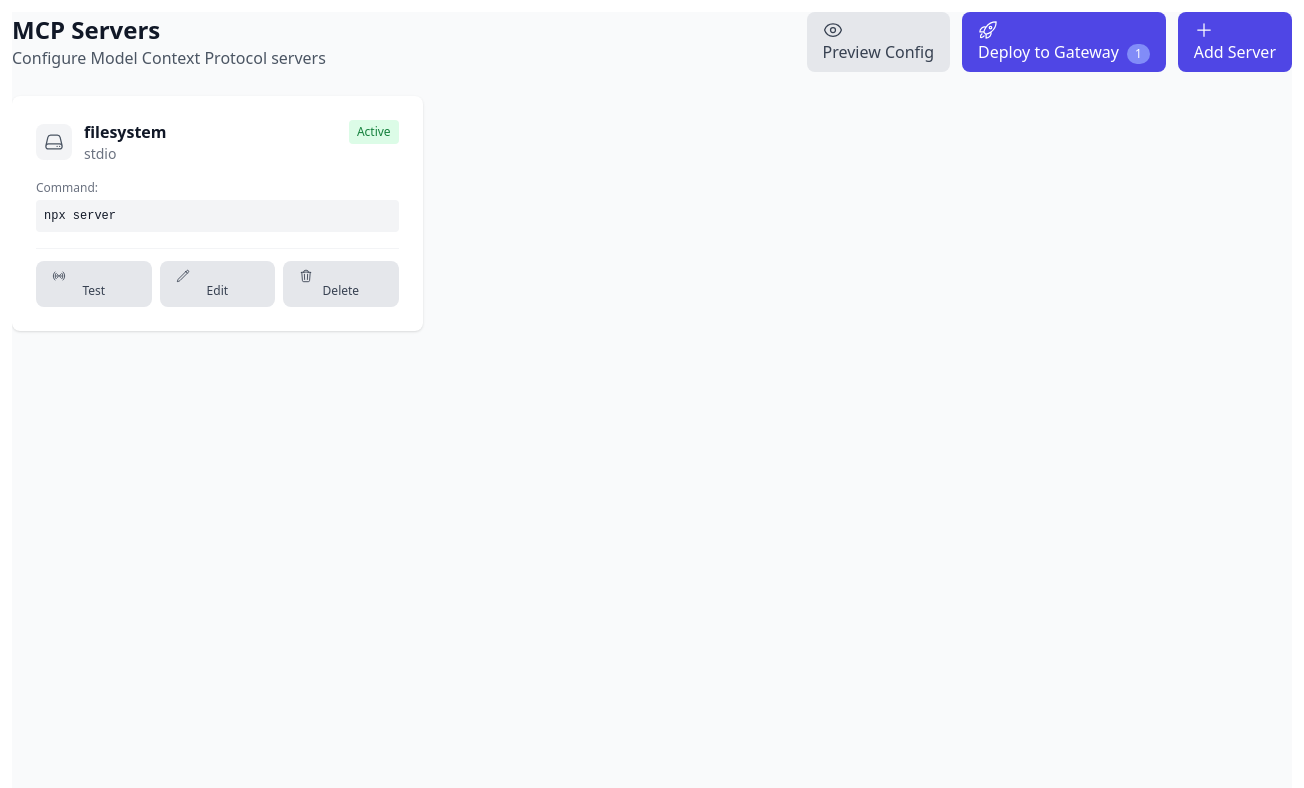
MCPServers › opens create form when Add Server is clicked
Click the button "Add Server" at (1235, 42), box top-left (1178, 12), bottom-right (1292, 72)
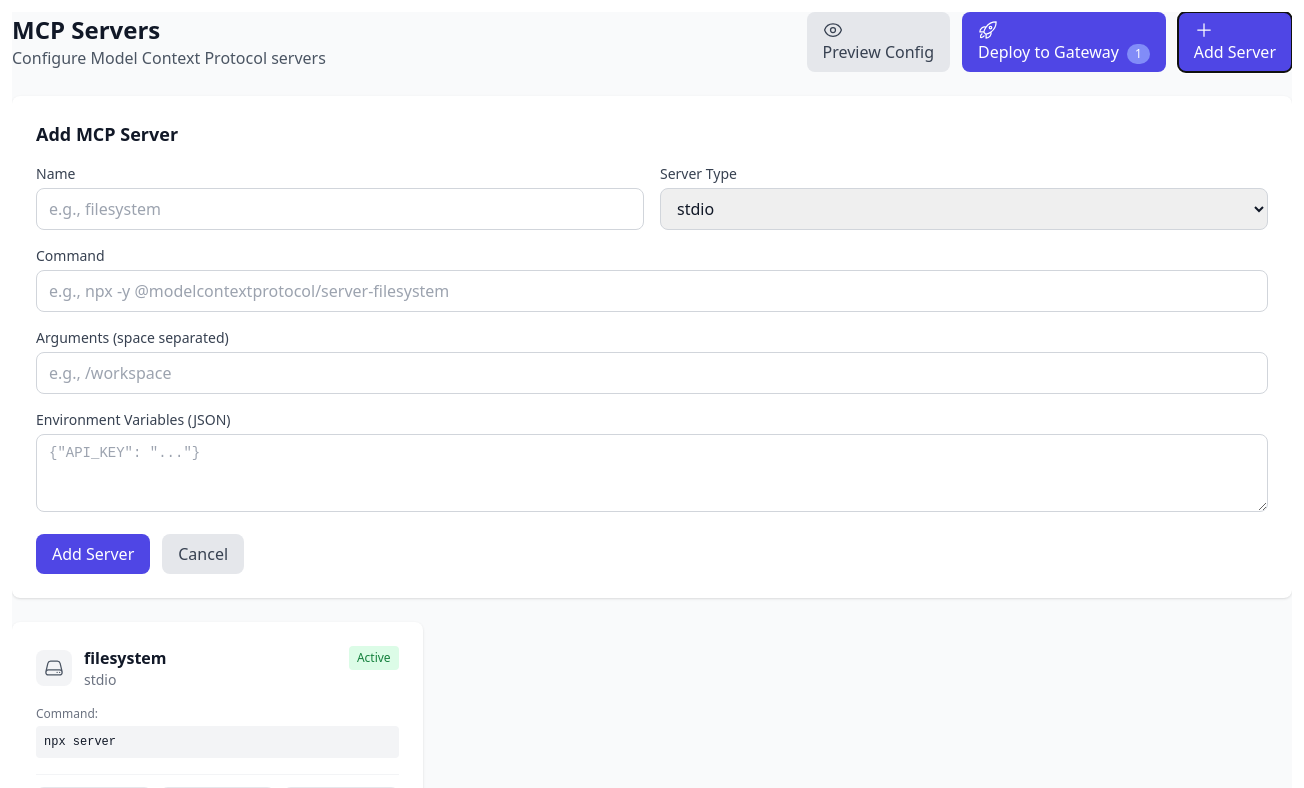
Check: the heading "Add MCP Server" is shown, box top-left (36, 122), bottom-right (178, 146)
Check: the field labelled "Name" is shown, box top-left (36, 188), bottom-right (644, 230)
Check: the dropdown labelled "Server Type" is shown, box top-left (660, 188), bottom-right (1268, 230)
